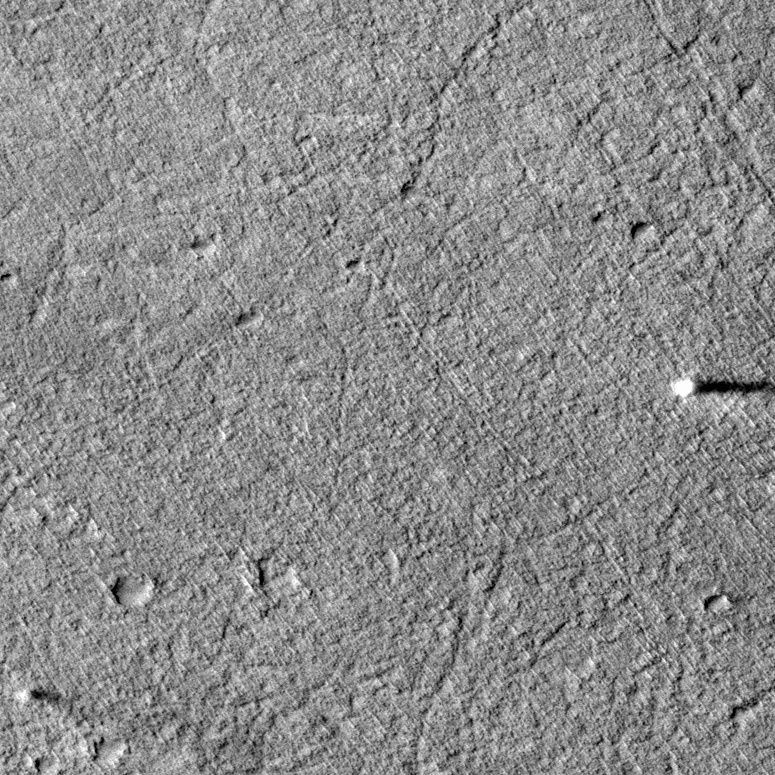dust_devil: (669, 374, 775, 399), (12, 686, 62, 708)
